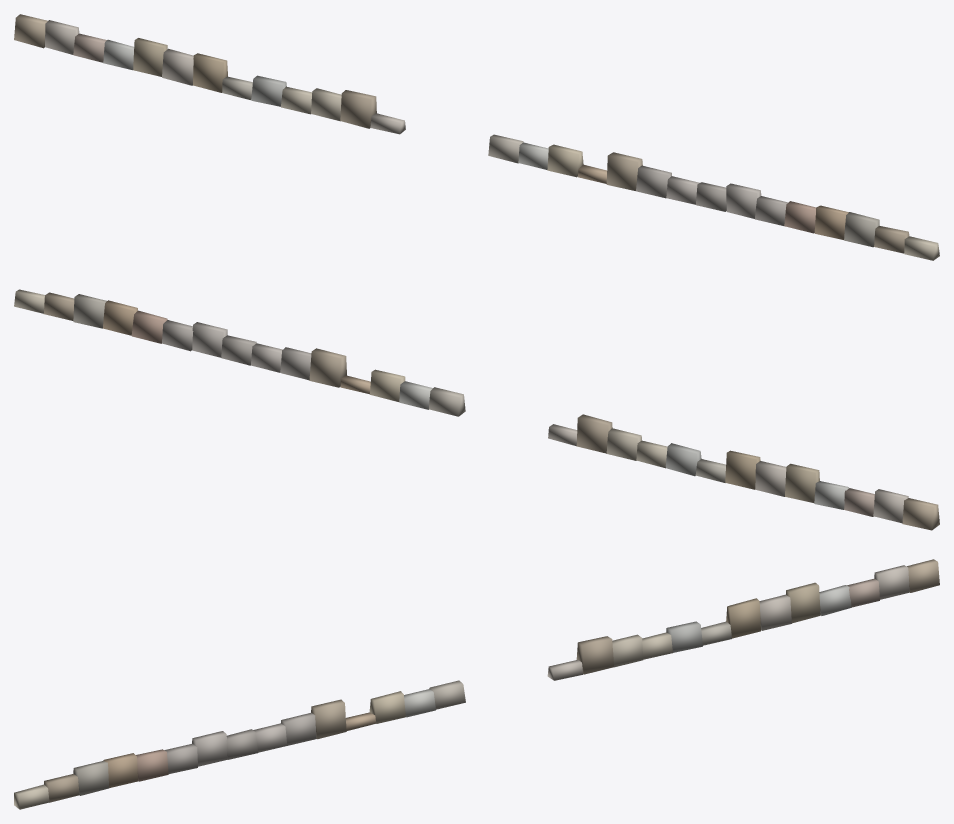
Rendered from farm_20_25_far.glb.
3 views of the same model, one above another, from view 1: azimuth 30°, elevation 25°; view 2: azimuth 210°, elevation 25°; view 3: azimuth 270°, elevation 25° (orthographic).
Parts seen in each view (by area): view 1: geometry_0; view 2: geometry_0; view 3: geometry_0.
Part boxes in pixels (x1=…): geometry_0: x1=14, y1=14, x2=939, y2=260; geometry_0: x1=14, y1=289, x2=939, y2=530; geometry_0: x1=14, y1=559, x2=939, y2=809.
Bounding box in the file's own units: 24.78 × 1.53 × 41.89.
